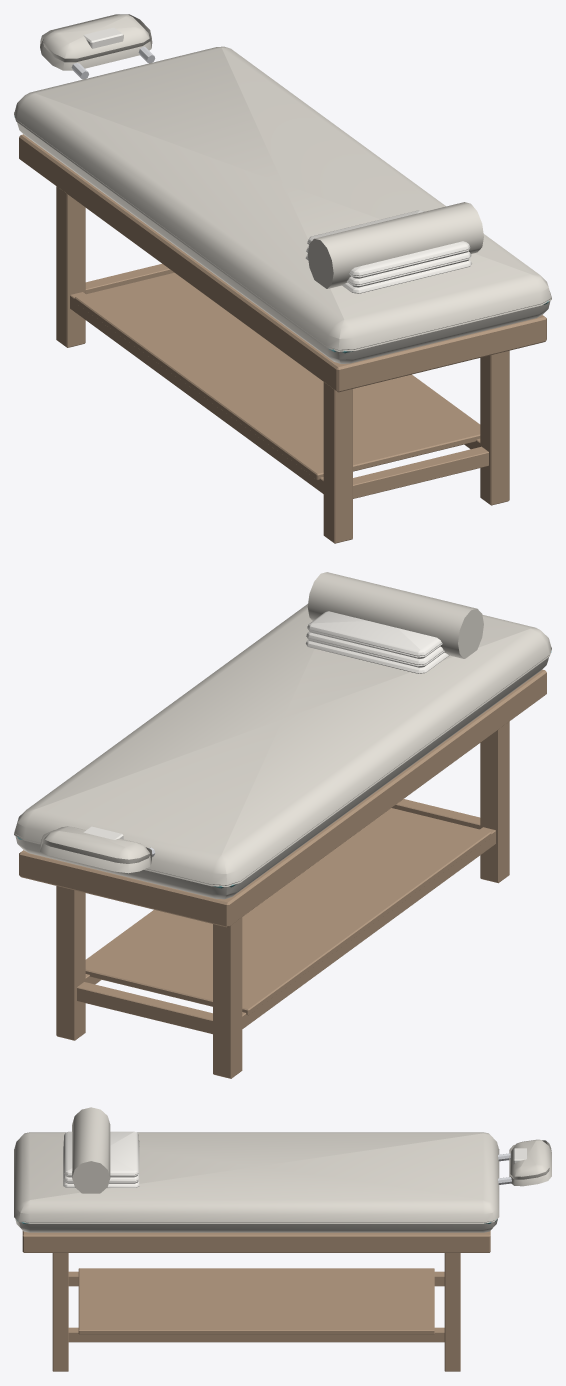
File: massage.glb
3 renders of one model, top to bottom at view 1: azimuth 30°, elevation 25°; view 2: azimuth 150°, elevation 25°; view 3: azimuth 270°, elevation 25°, orthographic. The views are drawn at different scales.
Visible parts, largest first — view 1: massage-table; view 2: massage-table; view 3: massage-table.
Part boxes in pixels (box(x1,y1,x2,y2)): massage-table: box(14, 14, 551, 543); massage-table: box(14, 572, 551, 1078); massage-table: box(14, 1107, 551, 1371).
Size of the model in its own units: 0.7471 by 0.895 by 2.11.
